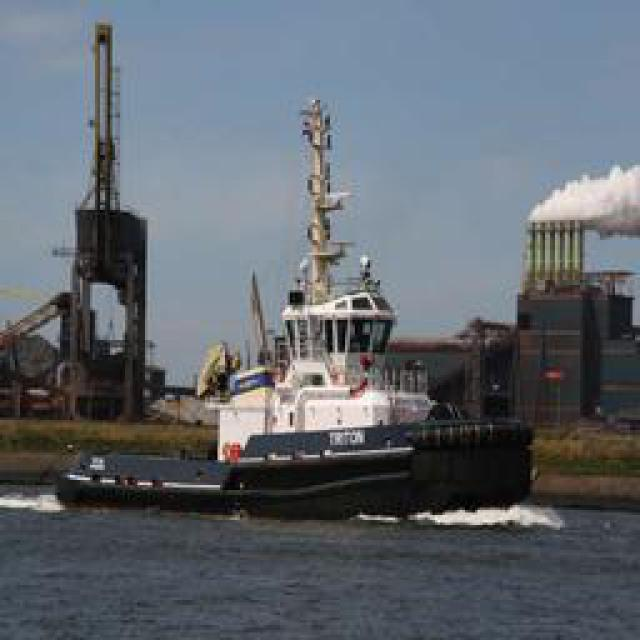Ship: (192, 94, 540, 499)
